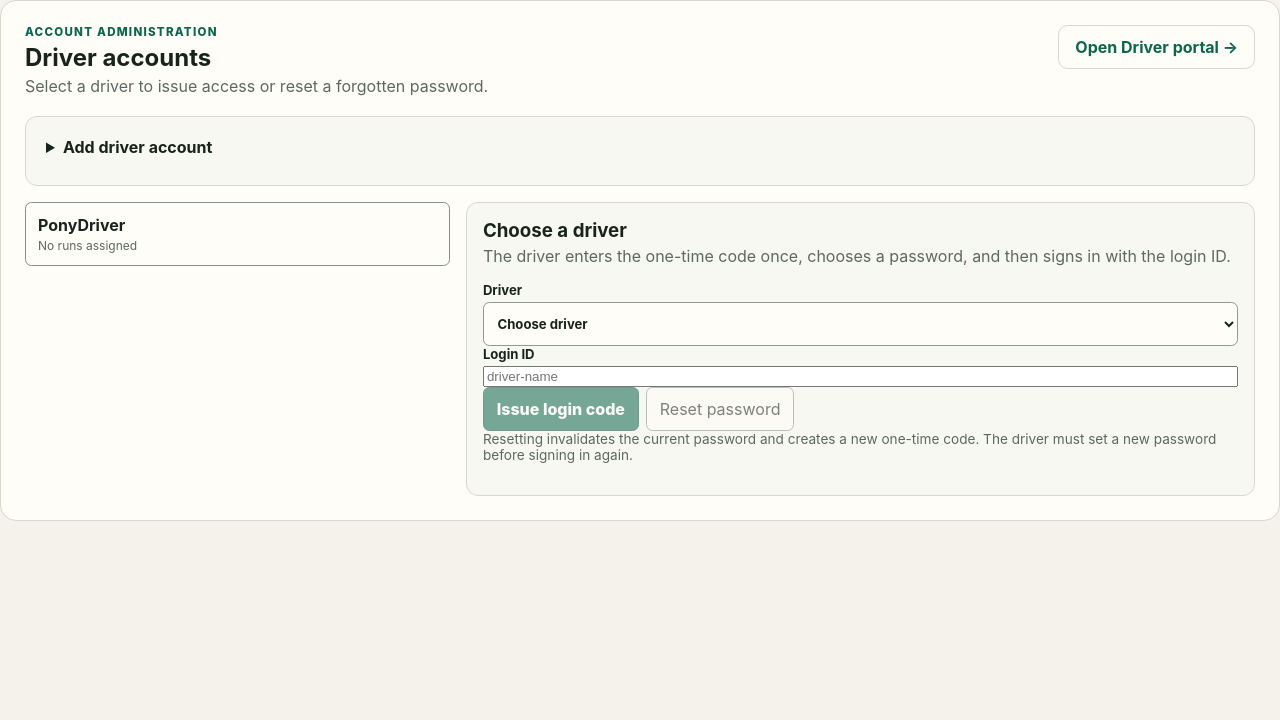
driver account access › lets Command reset a selected driver and displays the replacement one-time code
The width and height of the screenshot is (1280, 720).
Click the button "PonyDriver No runs assigned". click: x=82, y=225
box: [25,202,450,266]
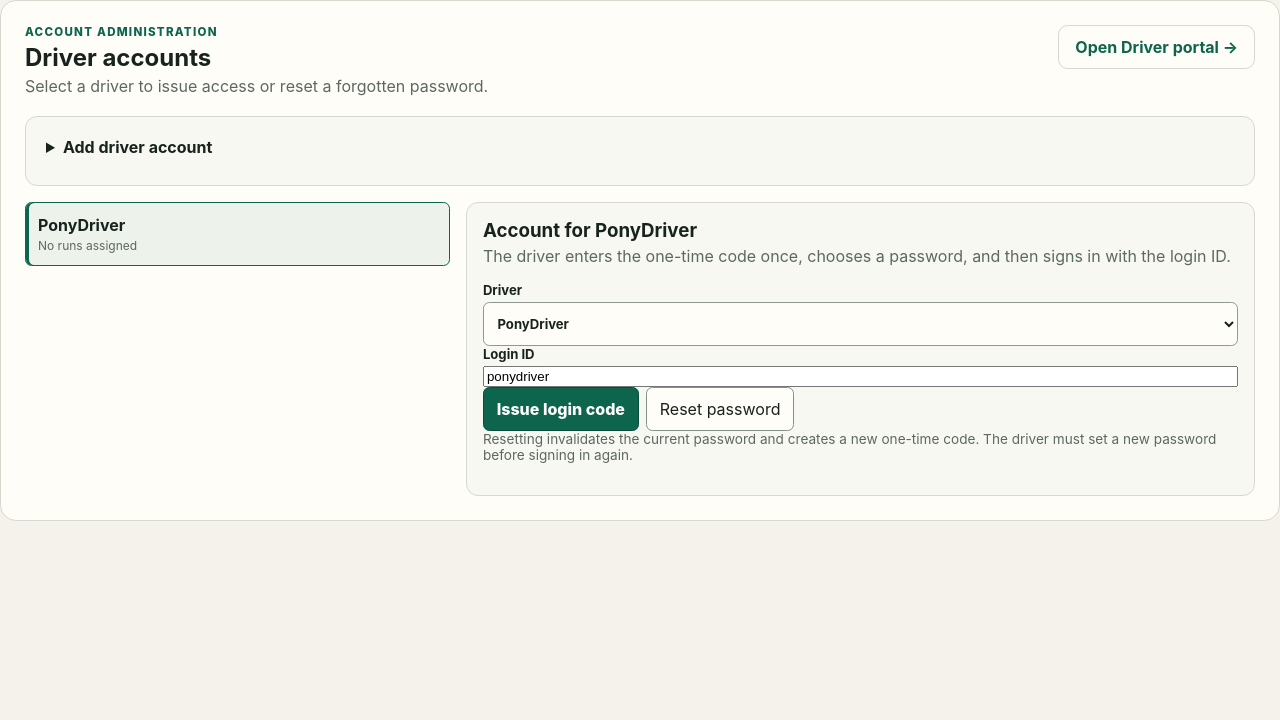
Click the button "Reset password". click: x=720, y=409
box: [646,387,794,431]
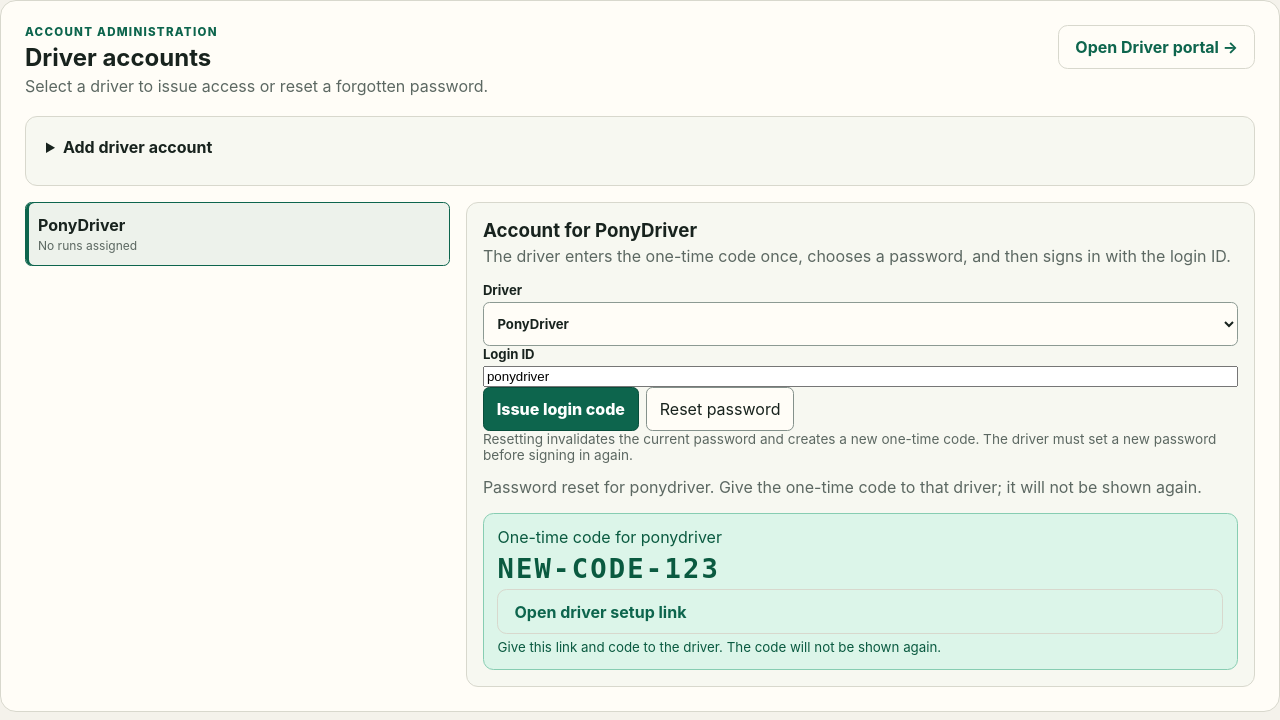
Expected: the text "NEW-CODE-123" is shown, [498,553,720,584]
